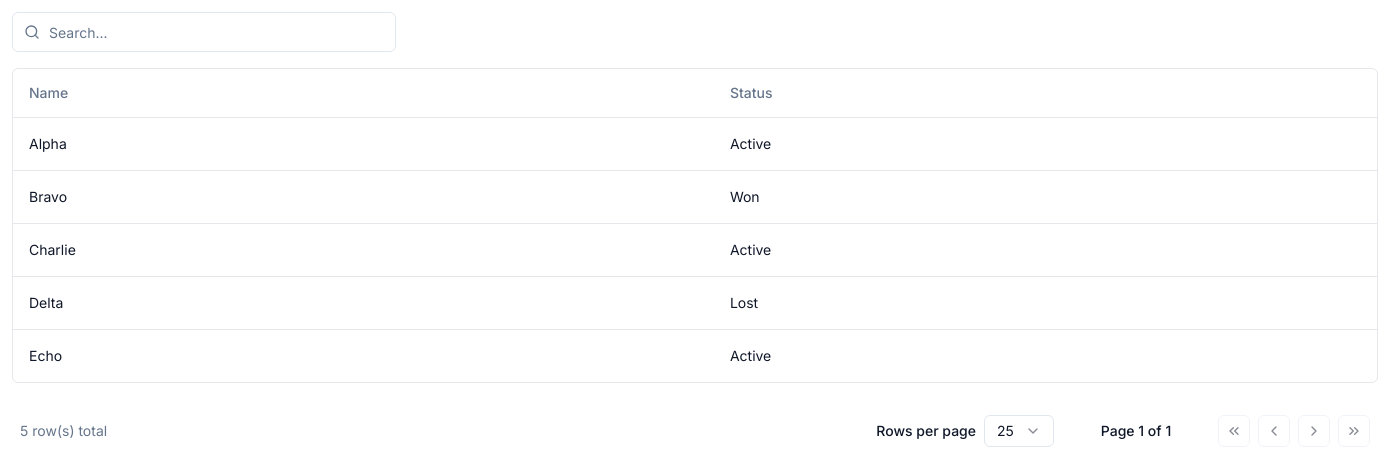
Test: DataTable › filters rows when search input changes
Type "Alpha" into the field with placeholder "Search..." at {"x": 204, "y": 32}, box [12, 12, 396, 52]
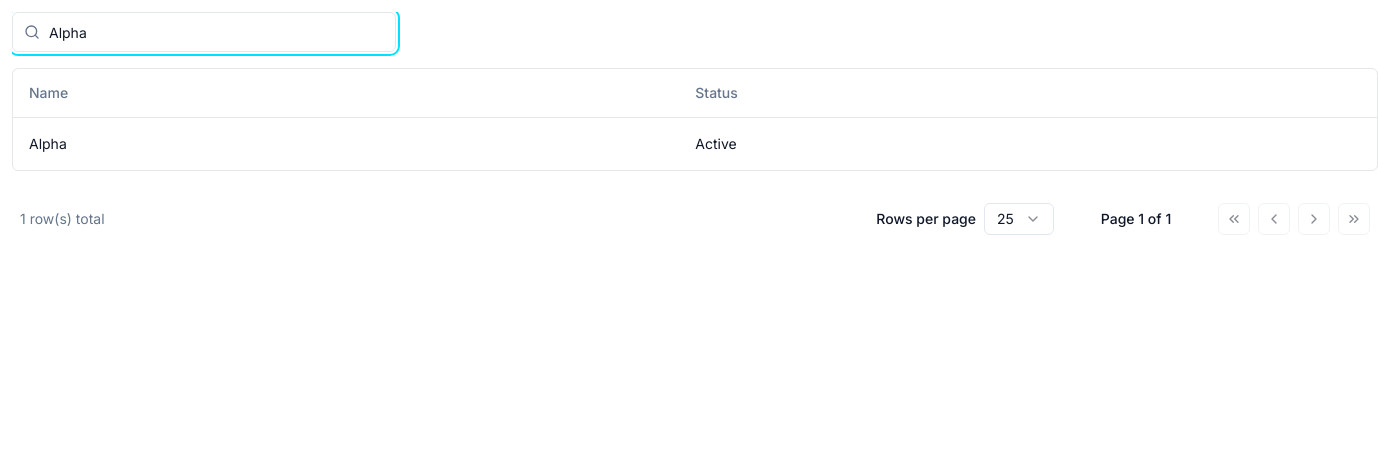
Expected: the text "Alpha" is shown, [13, 117, 679, 170]
Result: the text "Bravo" is gone
Result: the text "Charlie" is gone
